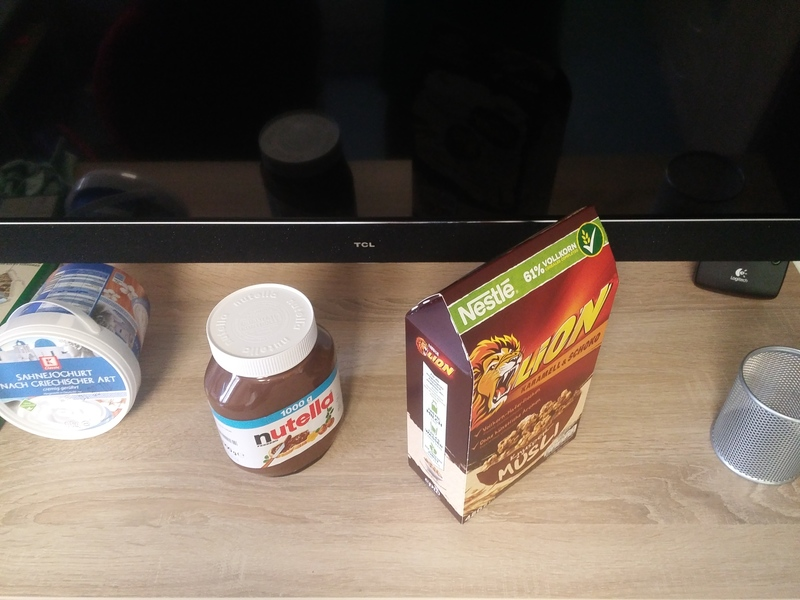cereals: (404, 204, 621, 524)
joghurt: (1, 262, 149, 443)
nutella: (203, 282, 347, 478)
